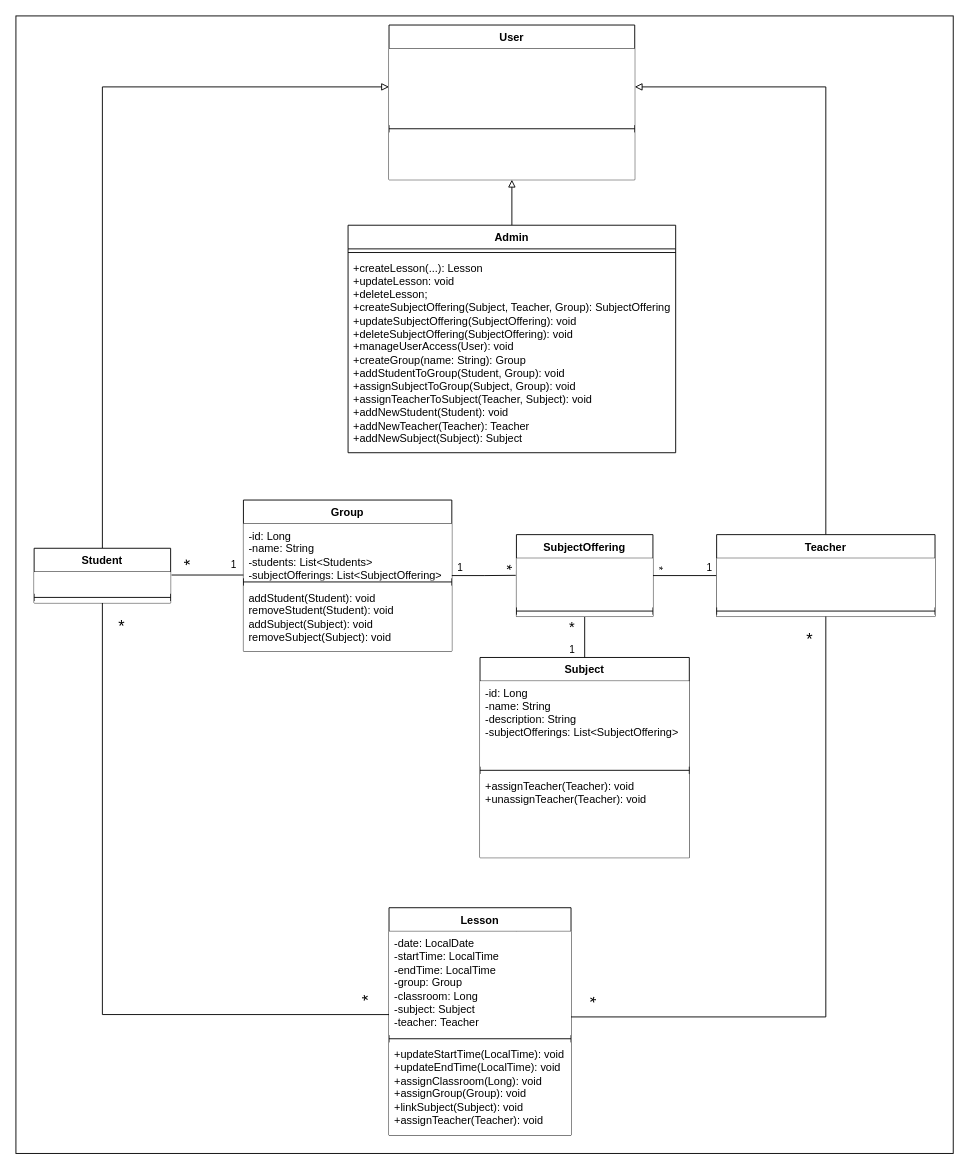
This 969x1169 diagram has some shape labels left out. The centre of each missing label's shape, as x and y in pixels:
"+getSchedule(LocalDate, Period): List<Lesson> +login(): boolean +logout(): void" belongs at [511,155].
"-department: String -subject: Subject -subjectOfferings: List<SubjectOffering>" belongs at [825,582].
"-group: Group" belongs at [102,582].
"-id: Long -firstName: String -lastName: String -email: String -password: String" belongs at [511,86].
"-teacherId: Long -subjectId; Long -groupId: Long" belongs at [584,582].
